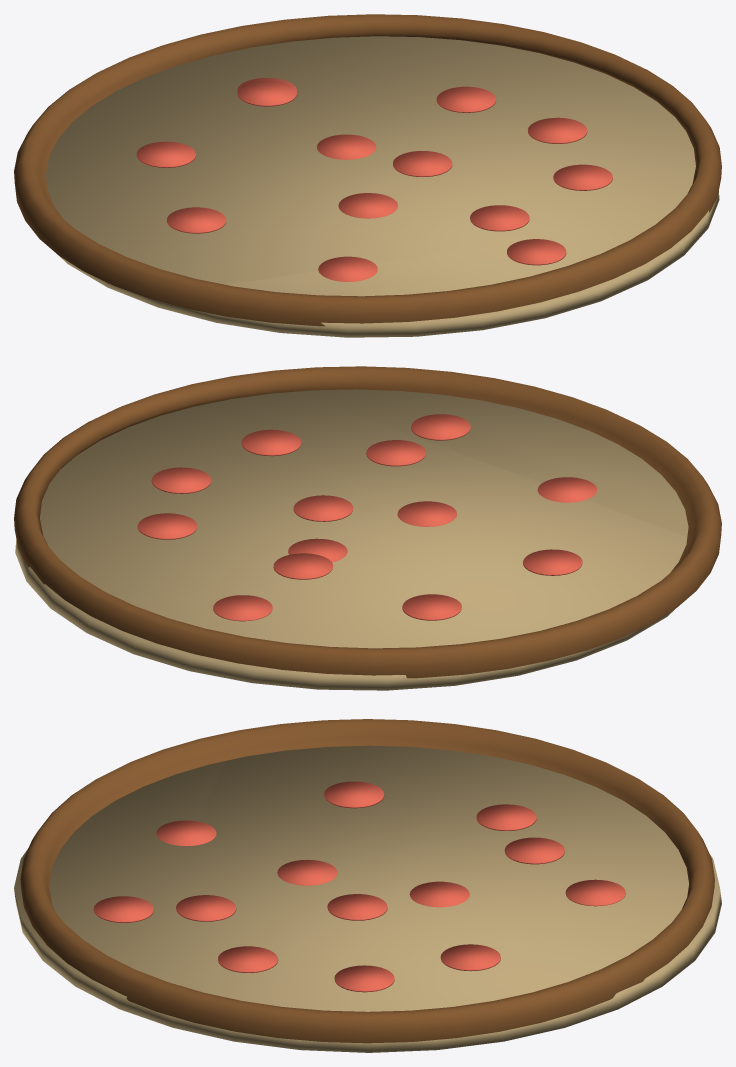
Rendered from pizza.fbx.
3 renders of one model, top to bottom at view 1: azimuth 30°, elevation 25°; view 2: azimuth 150°, elevation 25°; view 3: azimuth 270°, elevation 25°, orthographic.
Visible parts, largest first — view 1: Circle.007, Torus, Circle.018, Circle.010, Circle.020, Circle.012, Circle.013, Circle.017, Circle.015, Circle.009, Circle.019, Circle.016 (+2 smaller); view 2: Circle.007, Torus, Circle.015, Circle.019, Circle.009, Circle.012, Circle.020, Circle.018, Circle.010, Circle.013, Circle.017, Circle.011 (+3 smaller); view 3: Circle.007, Torus, Circle.020, Circle.009, Circle.010, Circle.015, Circle.018, Circle.012, Circle.017, Circle.019, Circle.013, Circle.011 (+3 smaller).
Boxes of the visible parts, x1,y1,x2,y2 form: Circle.007: (46,36,719,337); Torus: (14,14,721,326); Circle.018: (507,239,566,265); Circle.010: (167,207,226,233); Circle.020: (237,80,296,106); Circle.012: (136,141,195,167); Circle.013: (470,205,529,231); Circle.017: (553,164,612,190); Circle.015: (436,86,495,112); Circle.009: (527,117,587,143); Circle.019: (393,151,452,176); Circle.016: (338,193,397,218); Circle.007: (15,389,688,690); Torus: (14,366,721,678); Circle.015: (137,513,197,539); Circle.019: (293,495,353,521); Circle.009: (151,467,211,493); Circle.012: (402,594,461,620); Circle.020: (273,553,333,579); Circle.018: (411,414,470,440); Circle.010: (523,549,582,575); Circle.013: (366,440,425,466); Circle.017: (241,429,301,456); Circle.011: (213,595,272,621); Circle.007: (14,745,721,1052); Torus: (20,719,714,1043); Circle.020: (504,837,564,864); Circle.009: (334,965,394,992); Circle.010: (324,781,384,808); Circle.015: (440,944,500,971); Circle.018: (93,896,153,922); Circle.012: (476,804,536,830); Circle.017: (218,946,278,972); Circle.019: (327,894,387,920); Circle.013: (176,895,236,921); Circle.011: (565,879,625,906).
Bounding box in the file's own units: 59.51 × 3.91 × 58.4.
